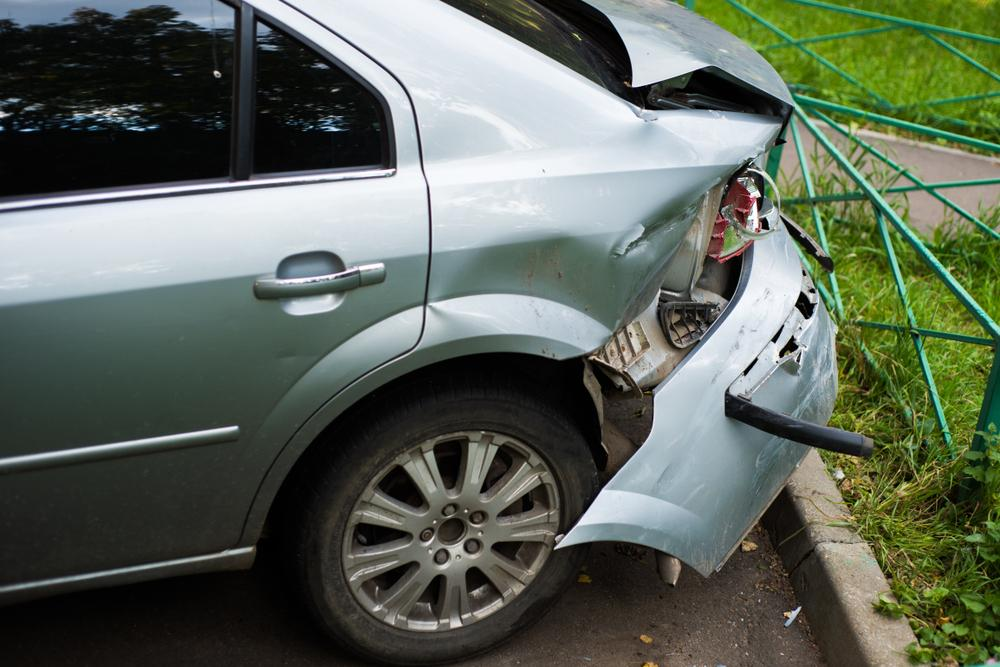dent: (426, 175, 712, 347)
lamp broken: (687, 170, 760, 301)
